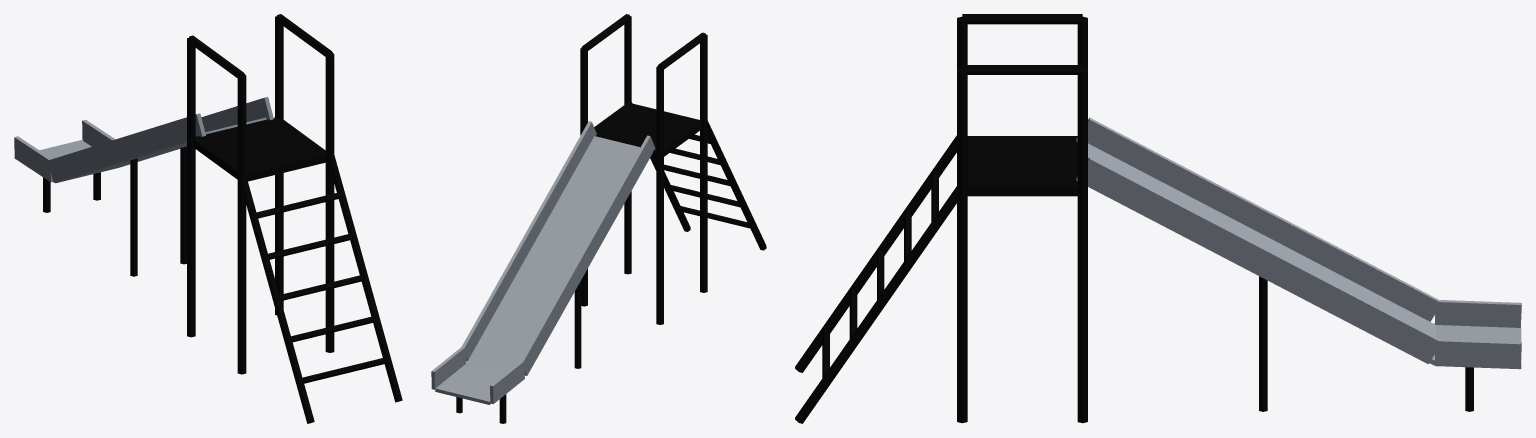
Rendered from Slide.fbx.
3 views of the same model, side by side, from view 1: azimuth 30°, elevation 25°; view 2: azimuth 150°, elevation 25°; view 3: azimuth 270°, elevation 25° (orthographic). The views are drawn at different scales.
Visible parts, largest first — view 1: Frame.006, Chute, Deck, ChuteLegs; view 2: Chute, Frame.006, Deck, ChuteLegs; view 3: Chute, Frame.006, Deck, ChuteLegs.
Boxes of the visible parts, bbox=[...] form: Frame.006: bbox=[187, 14, 402, 423]; Chute: bbox=[14, 97, 273, 183]; Deck: bbox=[193, 117, 325, 181]; ChuteLegs: bbox=[43, 146, 186, 276]; Chute: bbox=[431, 121, 655, 404]; Frame.006: bbox=[580, 14, 766, 324]; Deck: bbox=[594, 103, 701, 158]; ChuteLegs: bbox=[456, 280, 581, 423]; Chute: bbox=[1076, 117, 1521, 369]; Frame.006: bbox=[795, 14, 1087, 423]; Deck: bbox=[967, 136, 1077, 196]; ChuteLegs: bbox=[1259, 276, 1473, 411].
Size of the model in its own units: 0.77 by 2.29 by 4.23.
